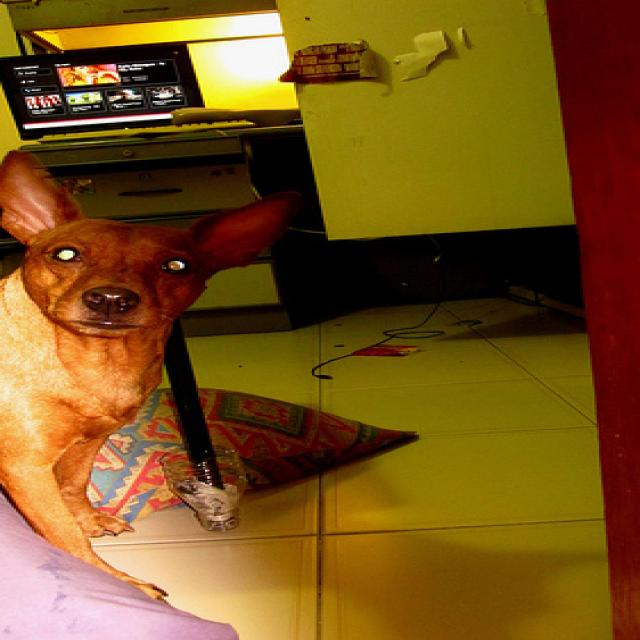dog-miniature_pinscher: (2, 136, 307, 608)
